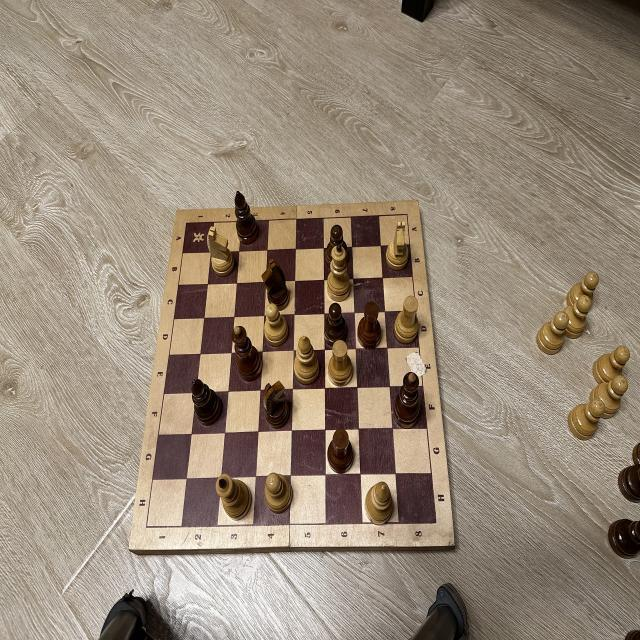chess-table-corners: (142, 522, 151, 532), (432, 518, 440, 527), (404, 211, 410, 219), (184, 220, 189, 227)
